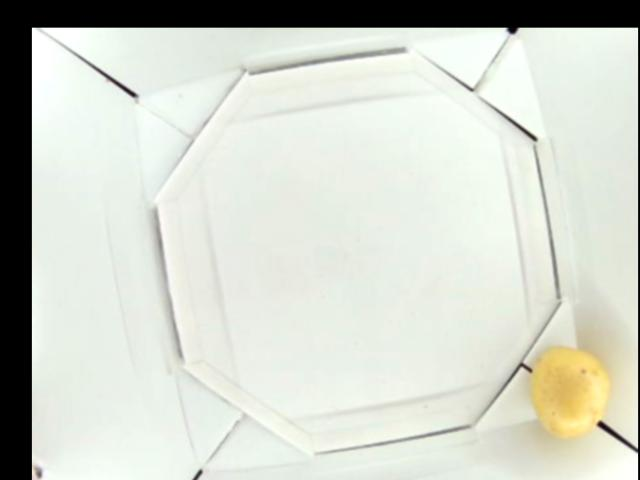Potato: (526, 344, 611, 438)
